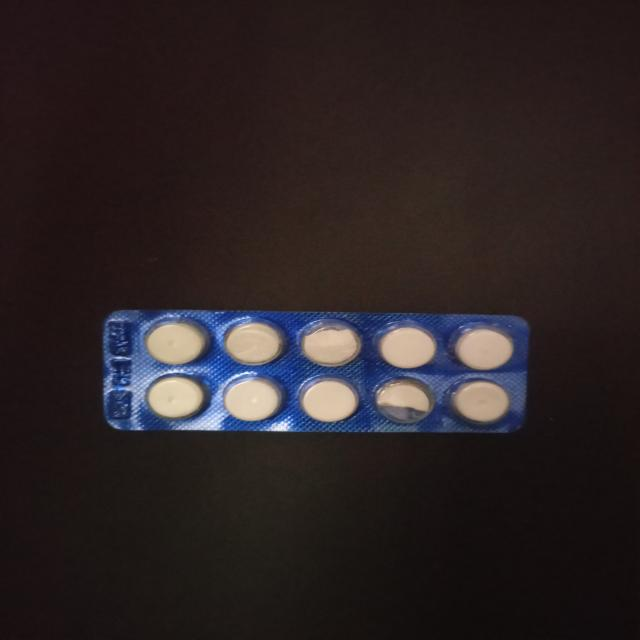defect: (297, 316, 364, 368), (371, 375, 437, 426)
